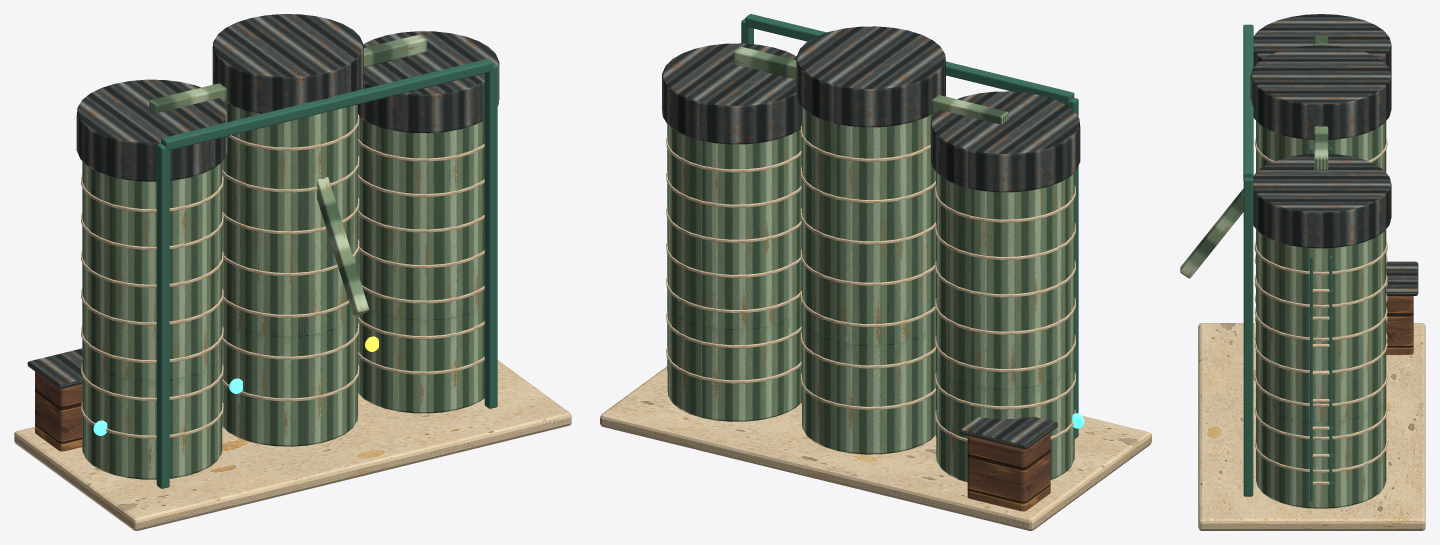
File: bracken_silo_set.glb
3 views of the same model, side by side, from view 1: azimuth 30°, elevation 25°; view 2: azimuth 150°, elevation 25°; view 3: azimuth 270°, elevation 25° (orthographic). The views are drawn at different scales.
Visible parts, largest first — view 1: Painted sage machinery, Painted warm cream, Painted farm steel, Deep green steel, Painted chestnut; view 2: Painted sage machinery, Painted farm steel, Painted warm cream, Painted chestnut, Deep green steel; view 3: Painted sage machinery, Painted farm steel, Painted warm cream, Deep green steel, Painted chestnut.
Boxes of the visible parts, x1,y1,x2,y2 form: Painted sage machinery: [82, 34, 484, 479]; Painted warm cream: [14, 114, 571, 530]; Painted farm steel: [27, 14, 499, 388]; Deep green steel: [156, 58, 497, 488]; Painted chestnut: [35, 371, 82, 451]; Painted sage machinery: [667, 46, 1074, 482]; Painted farm steel: [662, 26, 1080, 449]; Painted warm cream: [600, 122, 1151, 530]; Painted chestnut: [967, 432, 1050, 511]; Deep green steel: [667, 14, 1078, 438]; Painted sage machinery: [1180, 36, 1386, 508]; Painted farm steel: [1250, 14, 1418, 295]; Painted warm cream: [1198, 138, 1425, 530]; Deep green steel: [1243, 24, 1332, 501]; Painted chestnut: [1386, 296, 1413, 354].
Bounding box in the file's own units: 15.5 × 13.06 × 8.1.
Materials: 7 (4 with a texture image).
